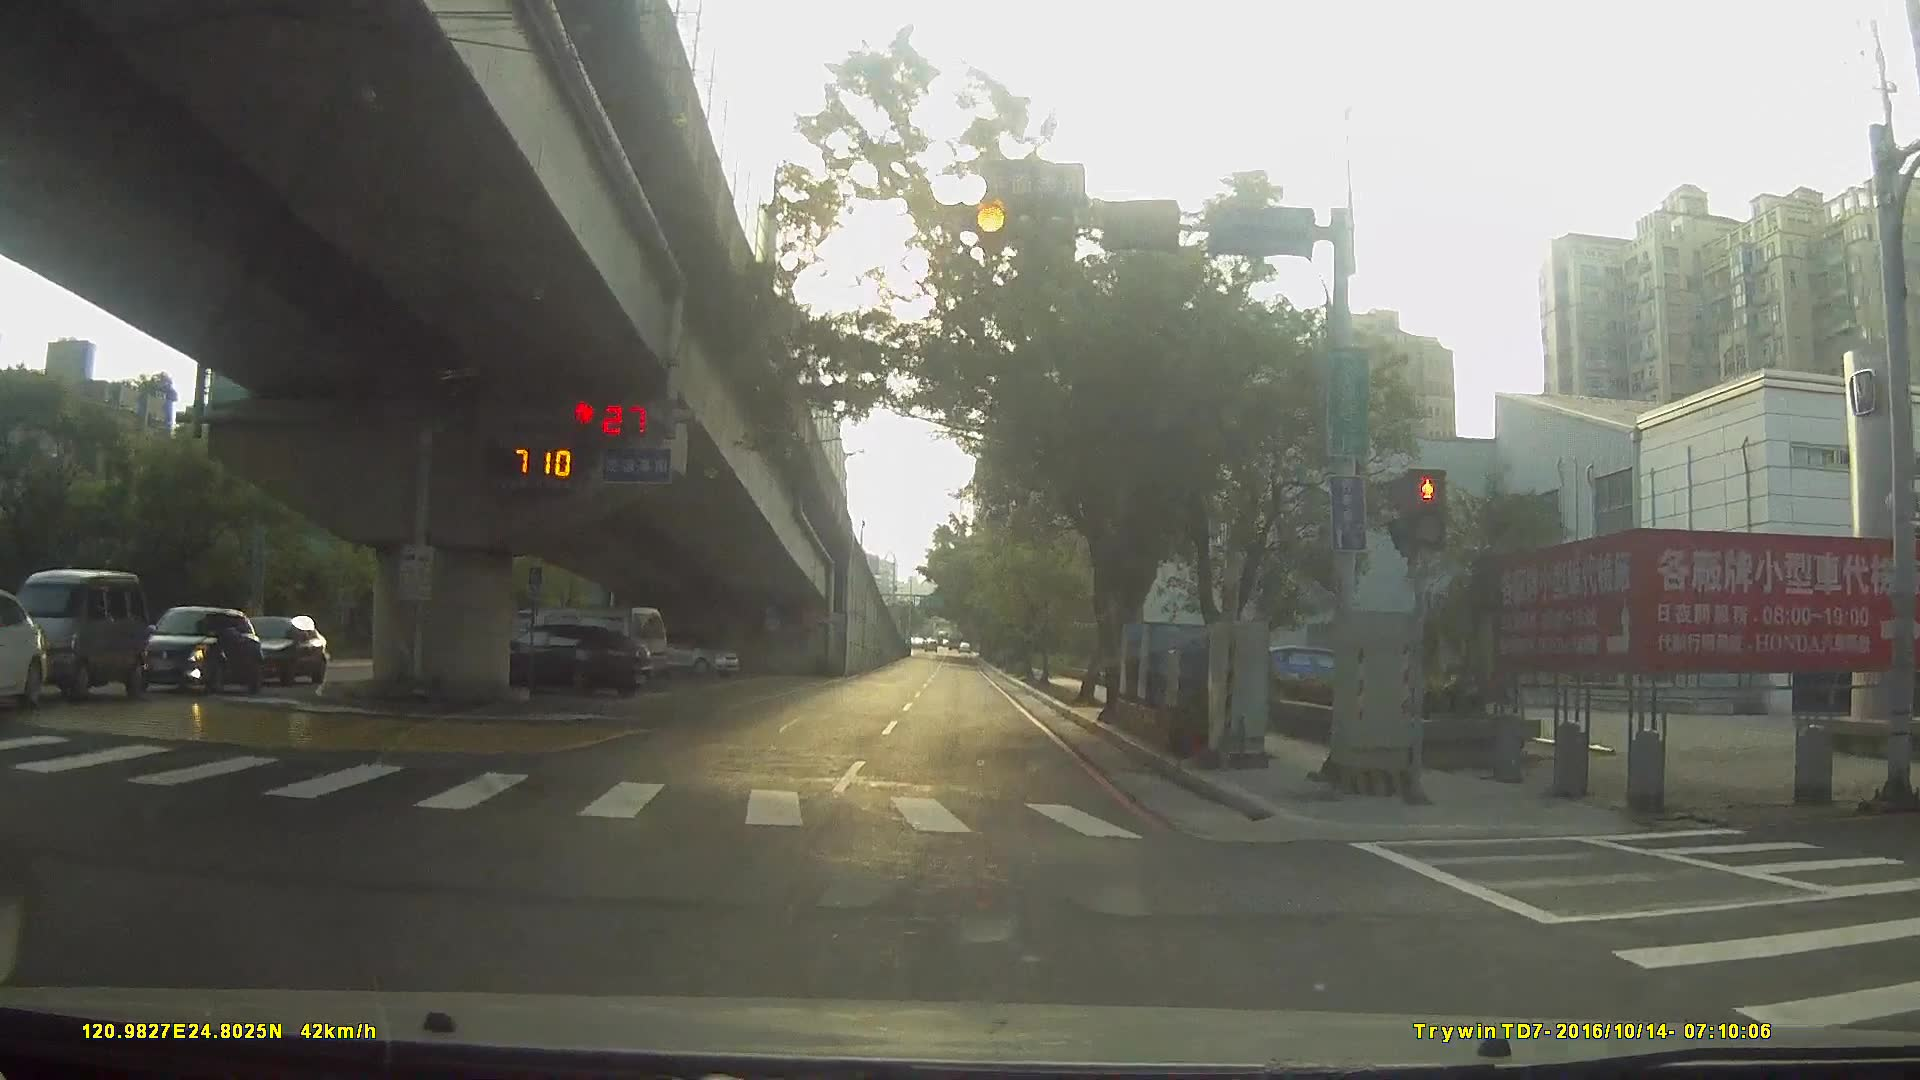vehicle: (1, 559, 167, 700), (491, 607, 667, 688), (468, 618, 647, 698), (123, 601, 256, 696), (218, 609, 335, 682), (1, 589, 53, 707), (638, 632, 738, 676)
